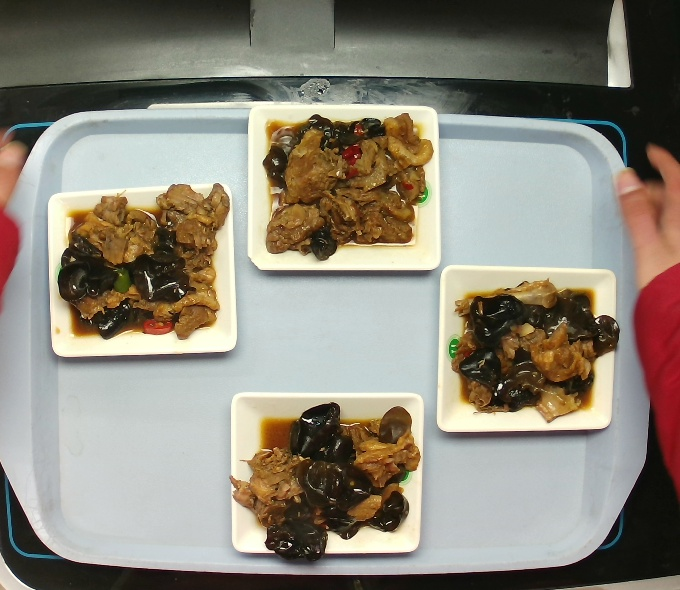wcq-MuErYaRou: (230, 403, 426, 559), (52, 184, 231, 348), (255, 109, 430, 263), (449, 276, 613, 426)
